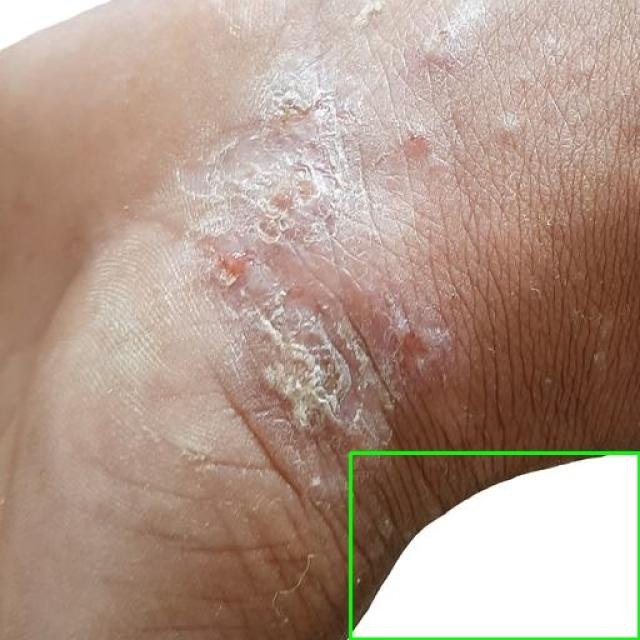Scabies: (350, 452, 639, 639)
